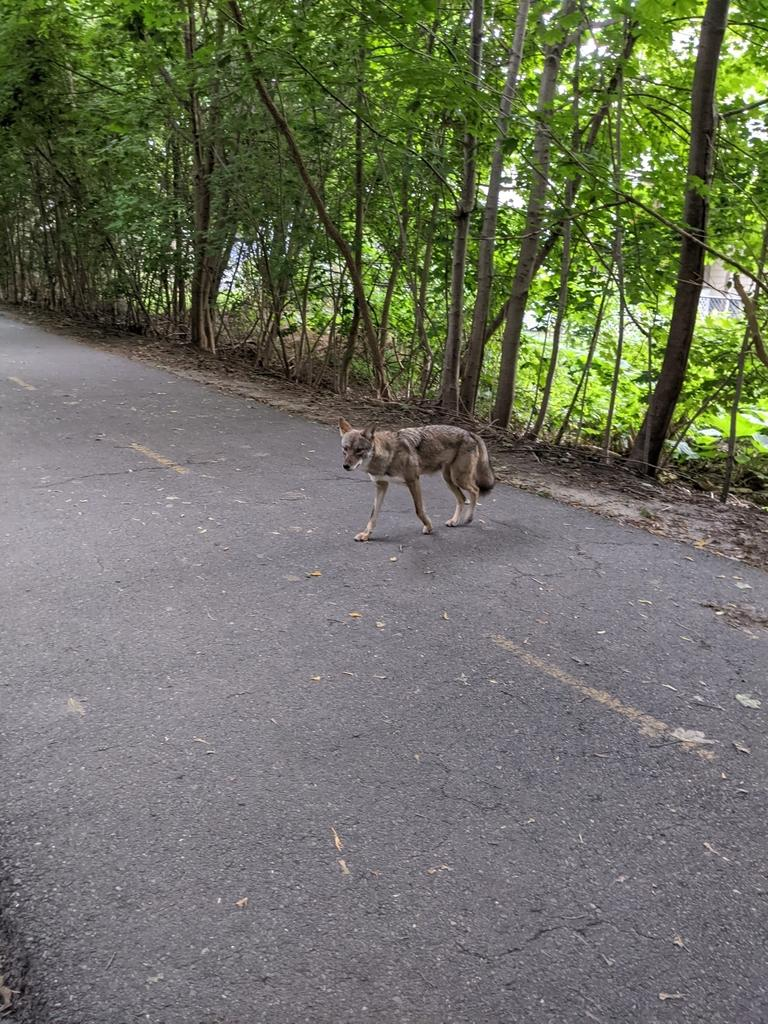Coyote: (328, 412, 502, 547)
